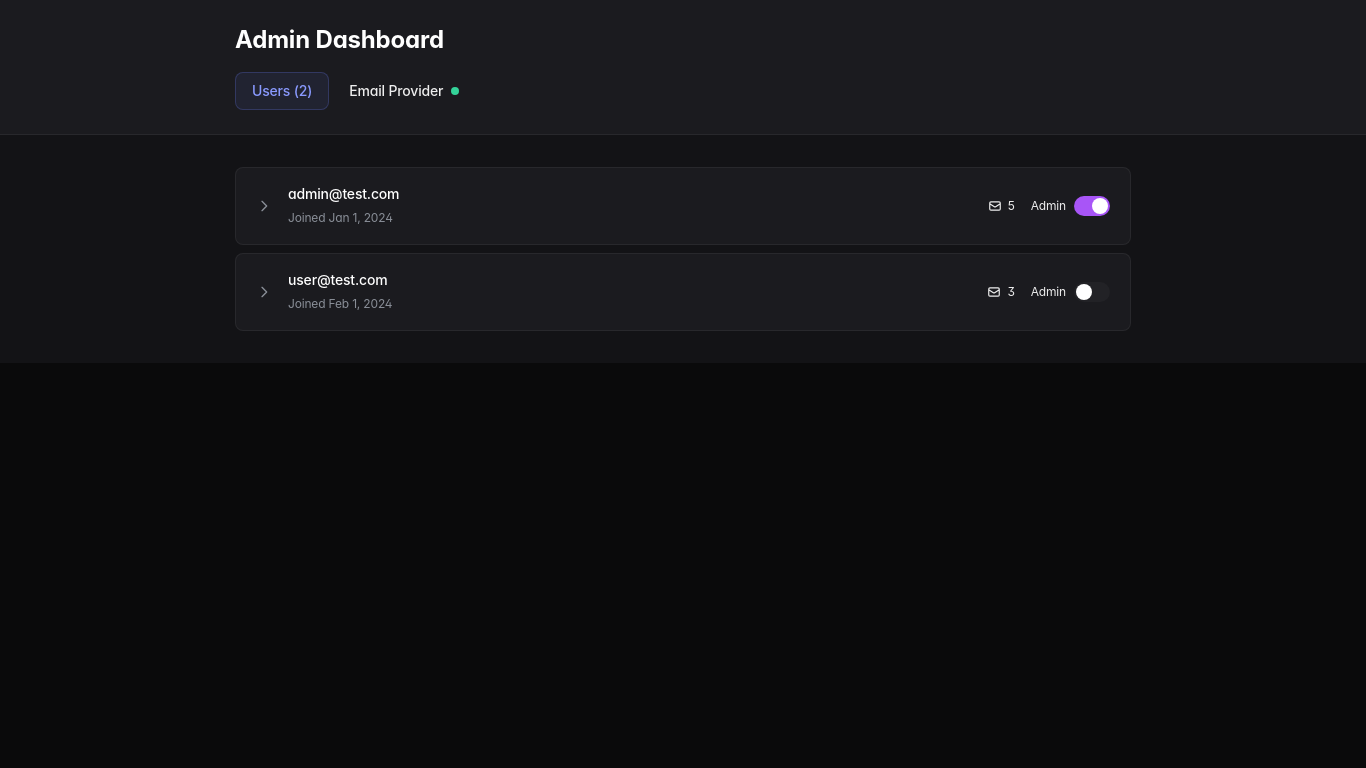
Admin - Email Provider Tab › shows existing provider status when configured
This screenshot has width=1366, height=768.
Click the button "Email Provider".
click(404, 91)  # box [333,72,475,110]
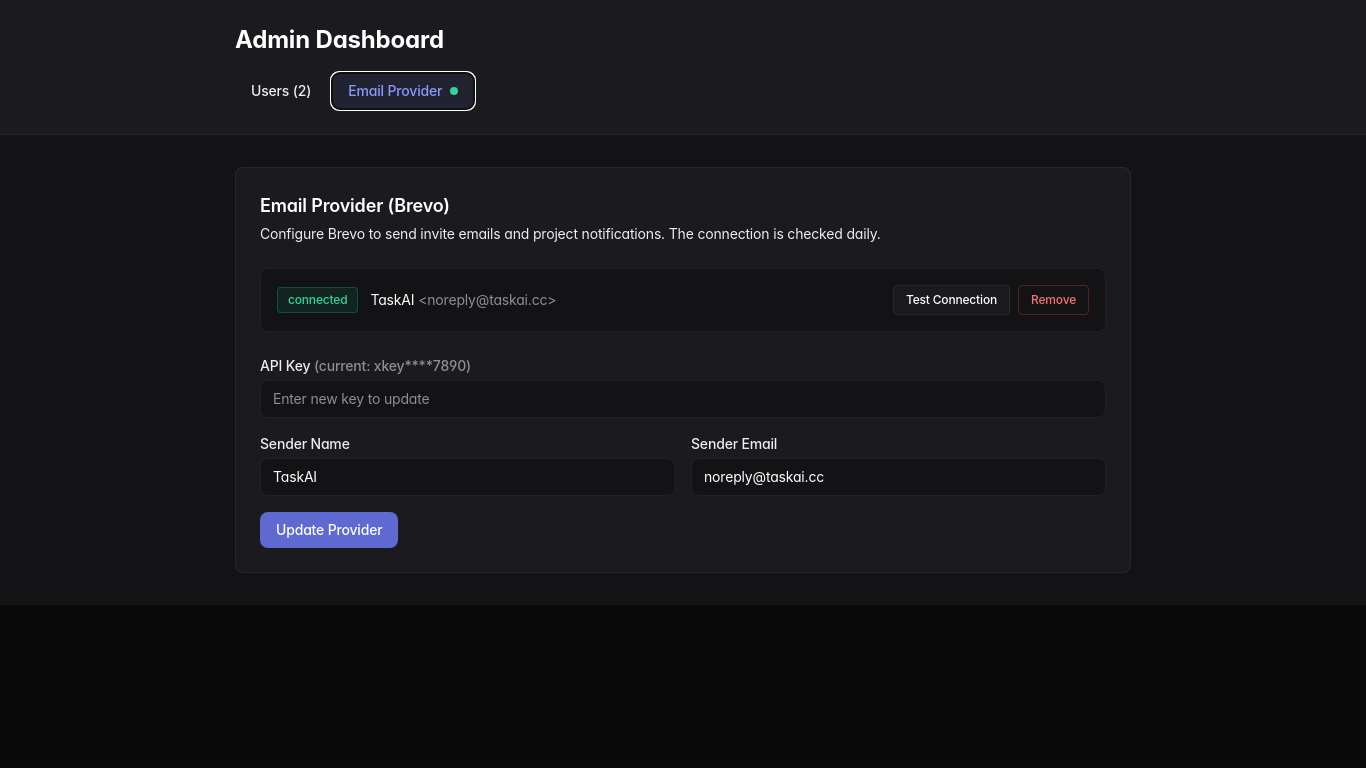
Result: the text "connected" is shown at [277,287,358,313]
Result: the text "TaskAI" is shown at [370,291,414,308]
Result: the button "Test Connection" is shown at [893,285,1010,315]
